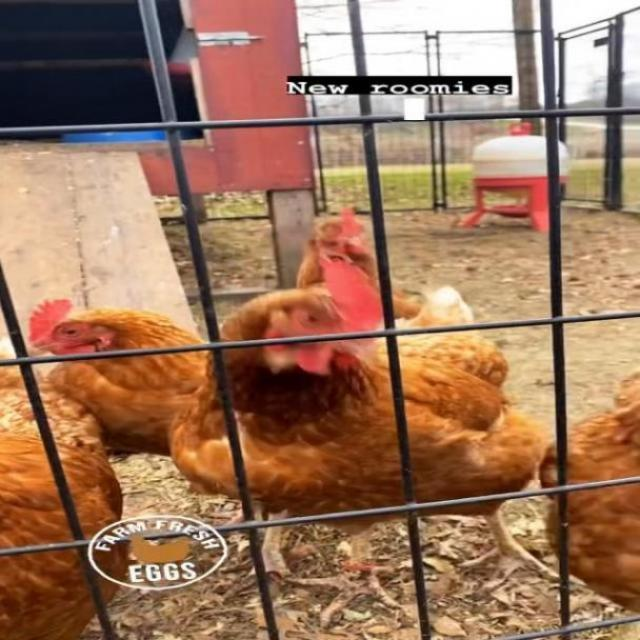Chicken: (168, 288, 553, 628), (0, 352, 123, 640), (17, 296, 215, 456), (533, 367, 640, 620), (296, 207, 421, 325)
